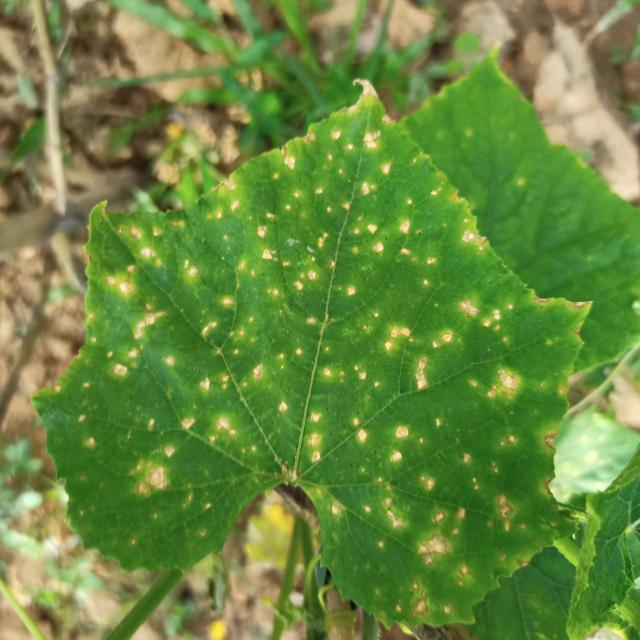disease_cucumber: (106, 124, 534, 401), (60, 270, 367, 524), (313, 337, 557, 617)
